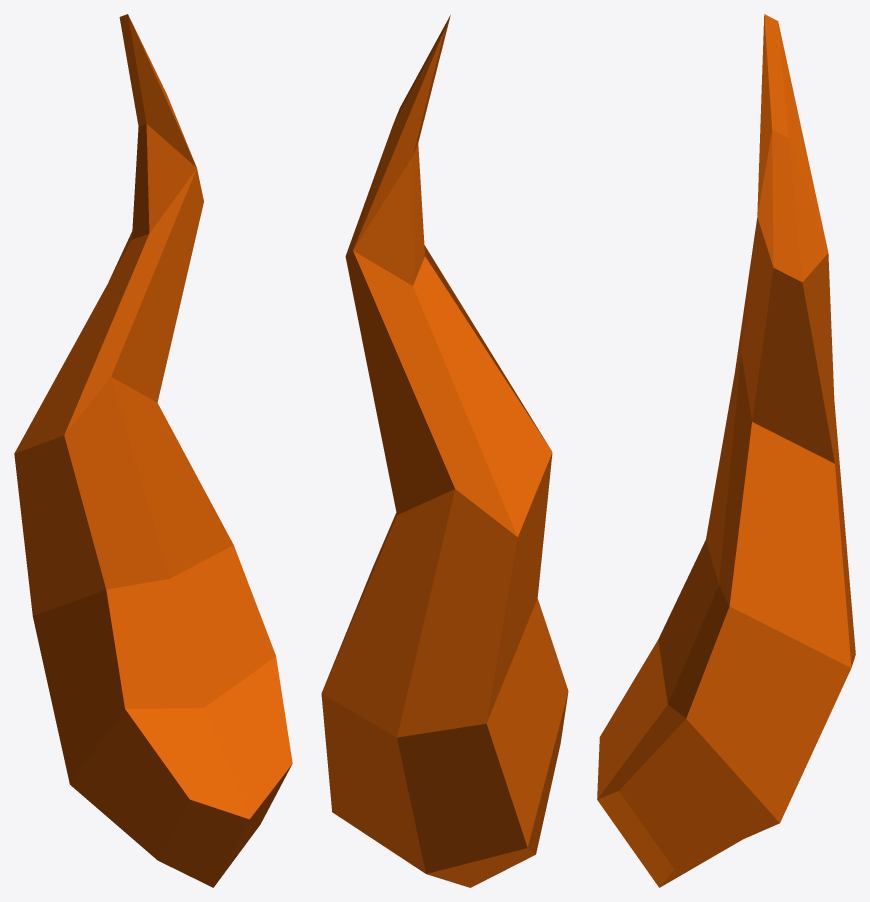
Rendered from fire-smoke.glb.
3 renders of one model, left to right at view 1: azimuth 30°, elevation 25°; view 2: azimuth 150°, elevation 25°; view 3: azimuth 270°, elevation 25°, orthographic. The views are drawn at different scales.
Visible parts, largest first — view 1: Fire_Smoke_Part_19; view 2: Fire_Smoke_Part_19; view 3: Fire_Smoke_Part_19.
Boxes of the visible parts, x1,y1,x2,y2 form: Fire_Smoke_Part_19: (14,14,292,887); Fire_Smoke_Part_19: (321,15,568,887); Fire_Smoke_Part_19: (597,14,855,887).
Bounding box in the file's own units: 0.2753 × 1.13 × 0.3084.
